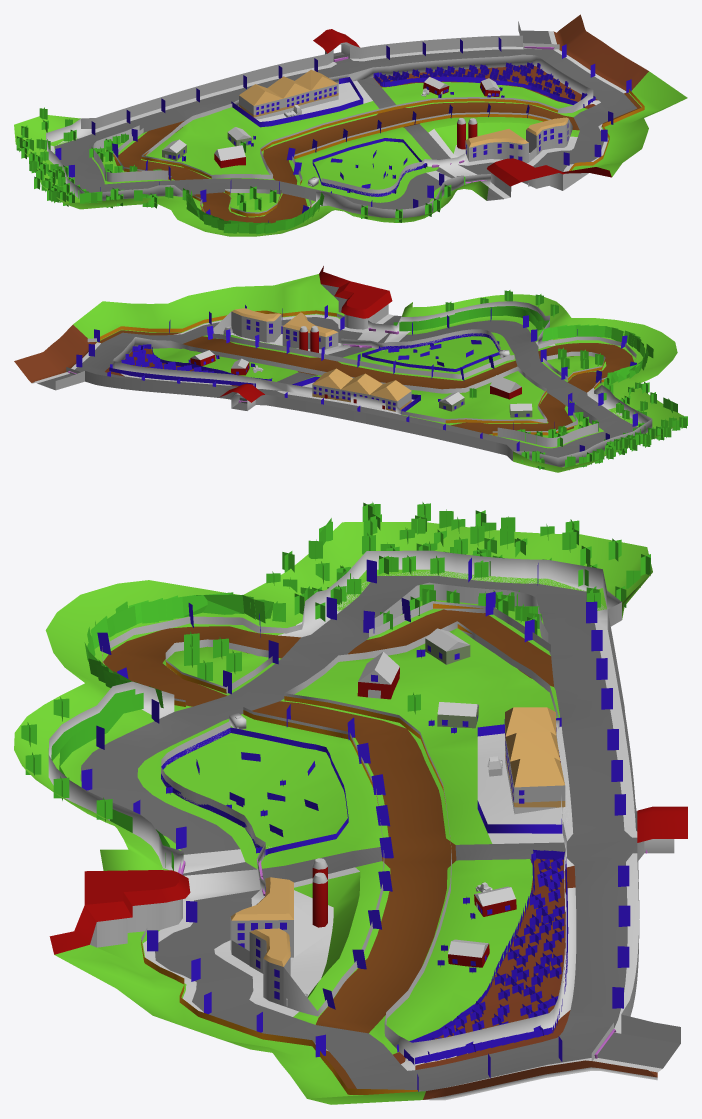
The model's file is track.dae.
The picture shows the model from 3 angles, top to bottom: view 1: azimuth 30°, elevation 25°; view 2: azimuth 150°, elevation 25°; view 3: azimuth 270°, elevation 25°; orthographic projection. The views are drawn at different scales.
Parts seen in each view (by area): view 1: Plane_001, Plane_002; view 2: Plane_001, Plane_002; view 3: Plane_001, Plane_002.
Part boxes in pixels (x1,y1,x2,y2): Plane_001: (14,14,687,236); Plane_002: (46,43,600,218); Plane_001: (14,266,687,472); Plane_002: (29,301,652,467); Plane_001: (14,502,687,1104); Plane_002: (48,550,657,1100).
Size of the model in its own units: 146 by 79.73 by 14.64.
